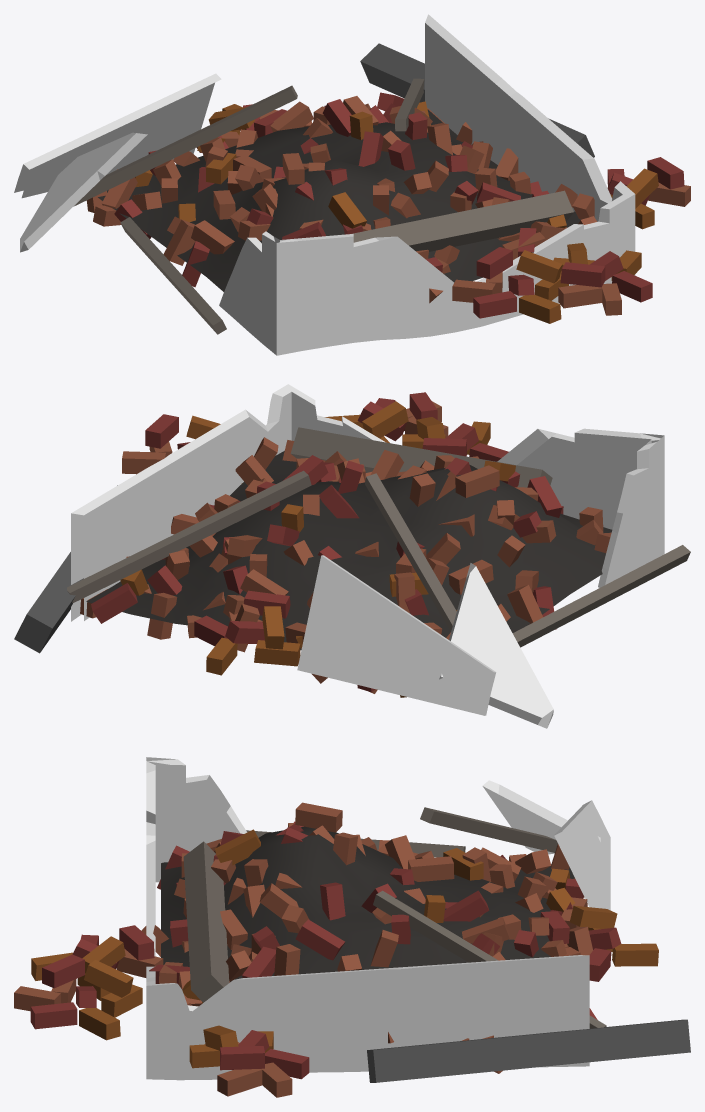
Rendered from Destroyed_Building.fbx.
The picture shows the model from 3 angles, top to bottom: view 1: azimuth 30°, elevation 25°; view 2: azimuth 150°, elevation 25°; view 3: azimuth 270°, elevation 25°; orthographic projection. The views are drawn at different scales.
Parts seen in each view (by area): view 1: Building 1 Destroyed; view 2: Building 1 Destroyed; view 3: Building 1 Destroyed.
Part boxes in pixels (x1=…): Building 1 Destroyed: x1=14, y1=14, x2=690, y2=355; Building 1 Destroyed: x1=14, y1=384, x2=690, y2=728; Building 1 Destroyed: x1=14, y1=757, x2=690, y2=1097.
Size of the model in its own units: 676 by 194 by 700.
